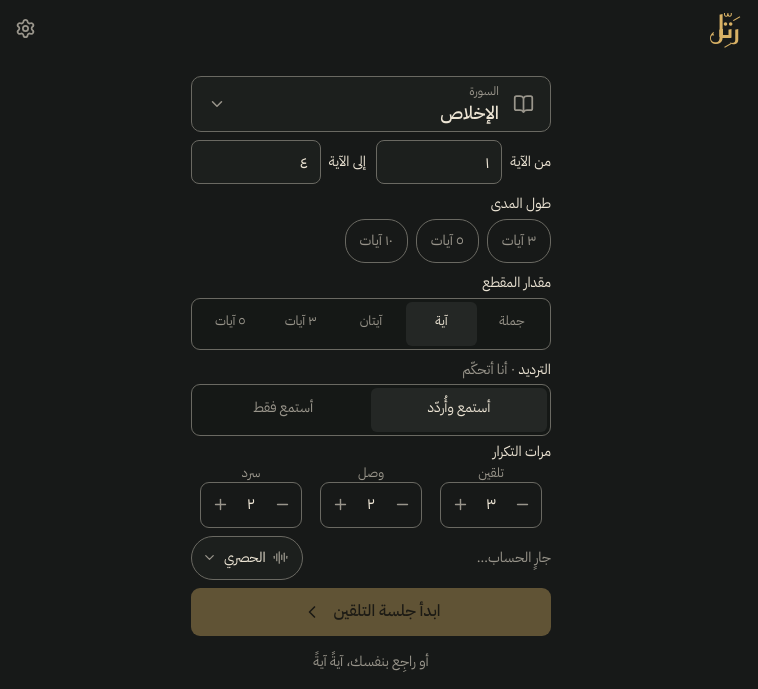
choosing a passage › names the gap it was given, including the one that waits
Expected: the element "الترديد · أنا أتحكّم أستمع وأُردّد أستمع فقط" is shown, x1=191 y1=358 x2=551 y2=436
Click the radio button labelled "أستمع فقط" at [283, 408], box x1=253 y1=398 x2=313 y2=418
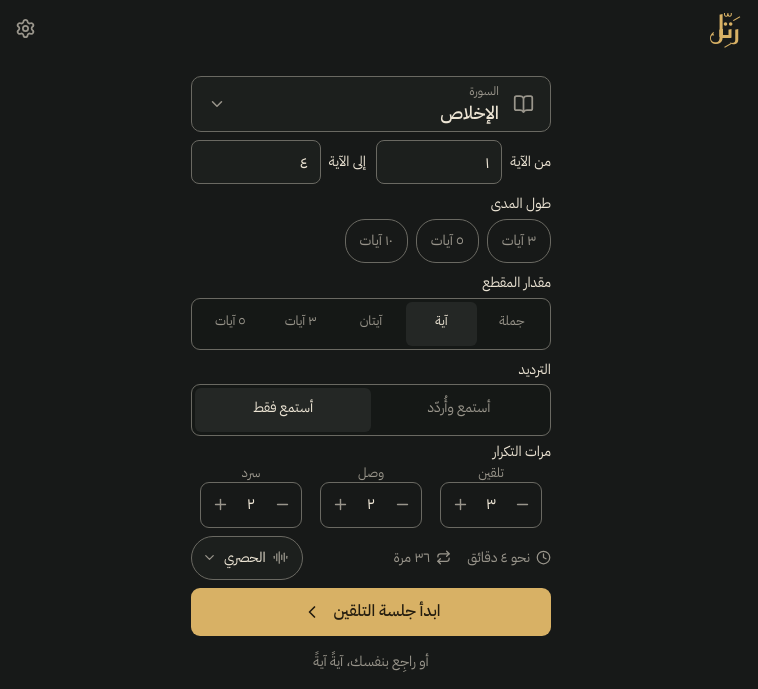
Expected: the text "الترديد" no longer shows "أنا أتحكّم"
